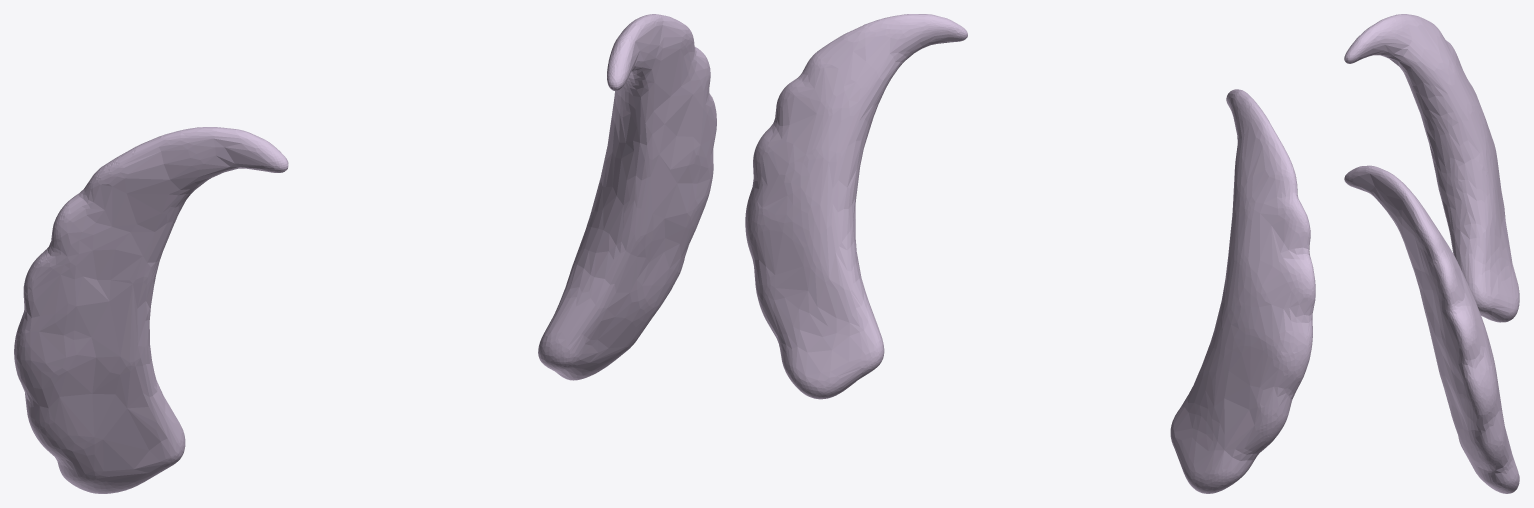
The model's file is hippocampe.glb.
3 views of the same model, side by side, from view 1: azimuth 30°, elevation 25°; view 2: azimuth 150°, elevation 25°; view 3: azimuth 270°, elevation 25° (orthographic). The views are drawn at different scales.
Visible parts, largest first — view 1: world; view 2: world; view 3: world.
Boxes of the visible parts, x1,y1,x2,y2 form: world: (14,14,716,493); world: (745,14,1315,493); world: (1344,14,1519,493).
Bounding box in the file's own units: 1.68 × 0.9676 × 0.4957.
